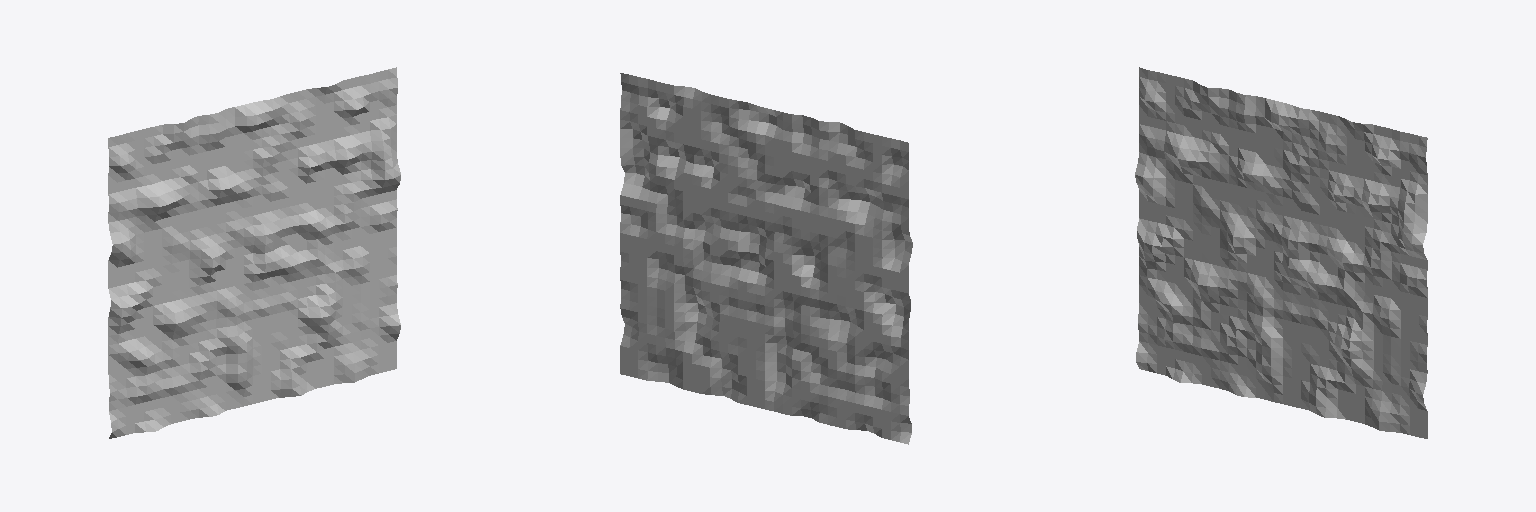
The model's file is terrain_noise.obj.
3 renders of one model, left to right at view 1: azimuth 30°, elevation 25°; view 2: azimuth 150°, elevation 25°; view 3: azimuth 330°, elevation 25°, orthographic.
Visible parts, largest first — view 1: Grid; view 2: Grid; view 3: Grid.
Part boxes in pixels (left/top/right/bottom): Grid: left=108, top=67, right=400, bottom=438; Grid: left=620, top=73, right=912, bottom=444; Grid: left=1135, top=67, right=1427, bottom=438.
Bounding box in the file's own units: 24 × 24 × 1.